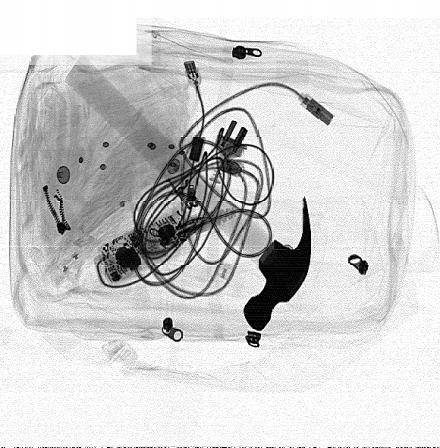Hammer: (64, 52, 312, 332)
